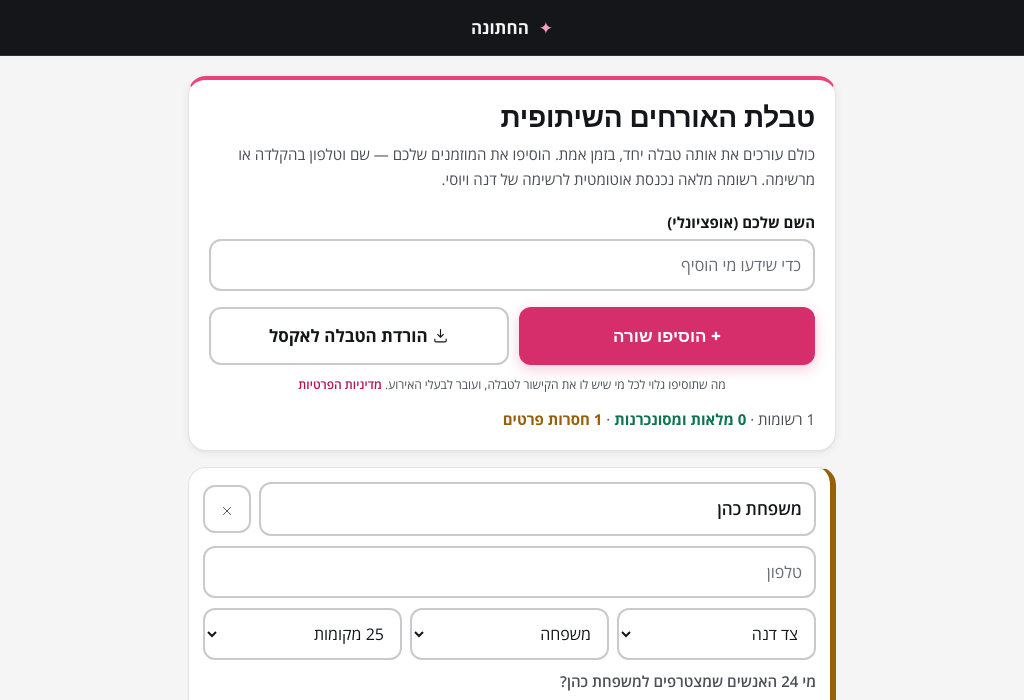
Test: shared family table › a delete that fails puts the row back and says so
This screenshot has width=1024, height=700.
Check: the field showing "משפחת כהן" is shown, box [259,482,816,536]
Click the button named "מחיקת שורה" at (227, 509), box [203,485,251,533]
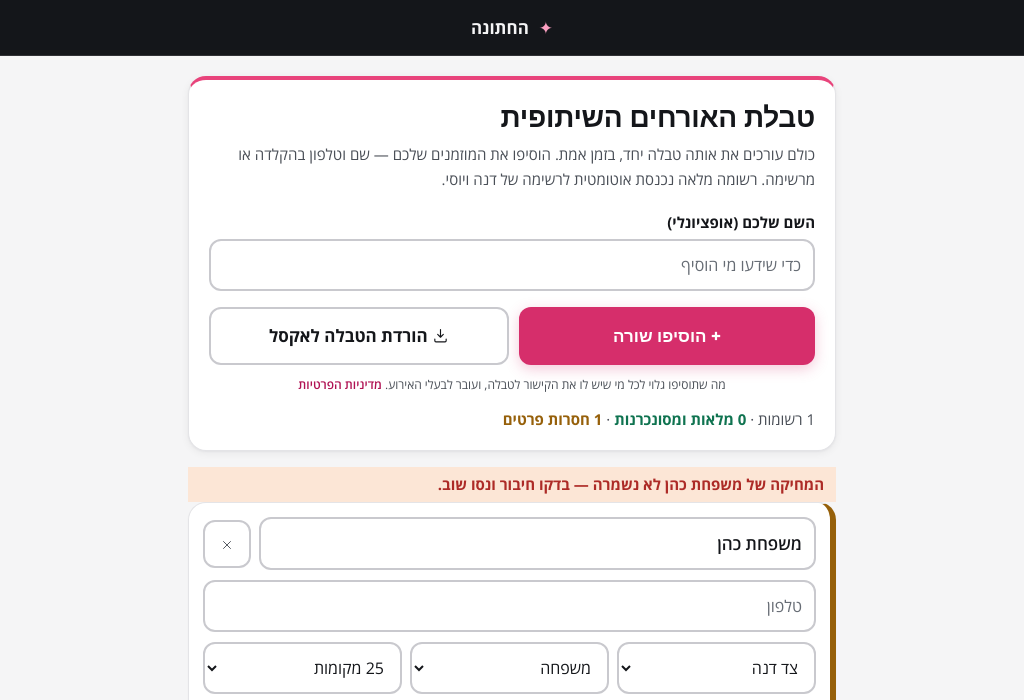
Check: the field showing "משפחת כהן" is shown, box [259,517,816,570]
Check: the text "המחיקה של משפחת כהן לא נשמרה — בדקו חיבור ונסו שוב." is shown, box [188,467,836,502]
